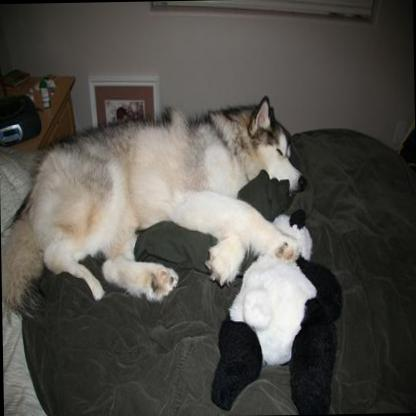malamute: (0, 90, 309, 323)
